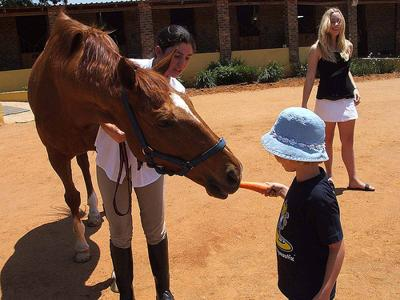person: (265, 104, 348, 300)
